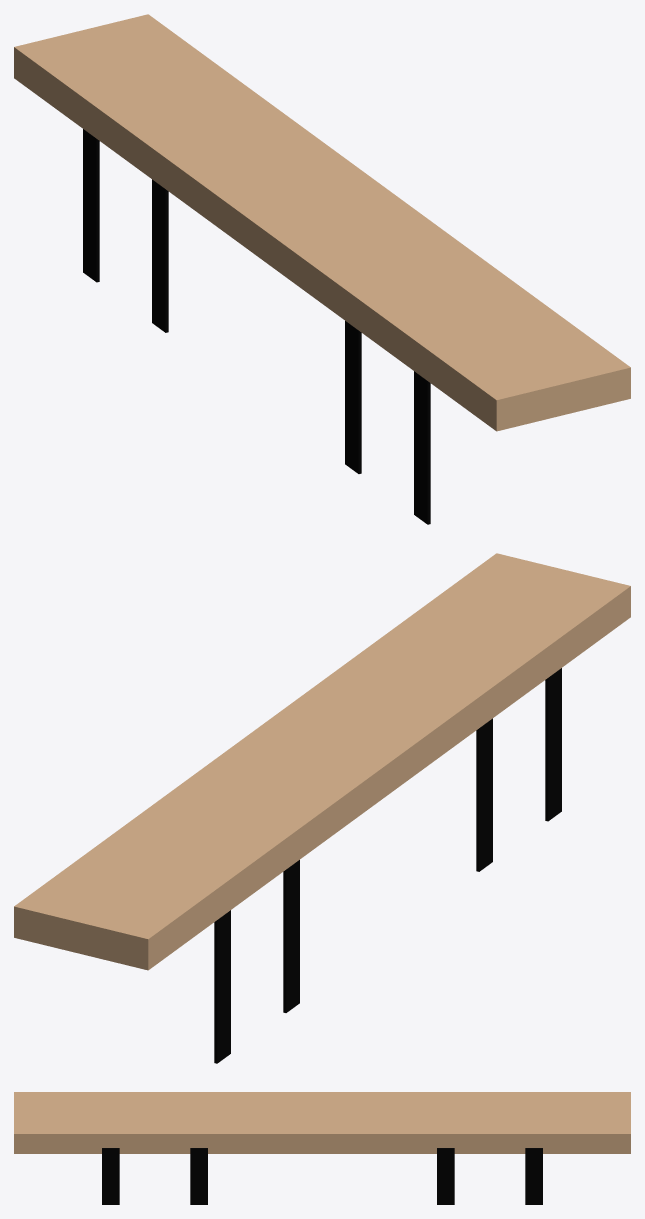
Rendered from 70s.Shelfs.fbx.
The picture shows the model from 3 angles, top to bottom: view 1: azimuth 30°, elevation 25°; view 2: azimuth 150°, elevation 25°; view 3: azimuth 270°, elevation 25°; orthographic projection. The views are drawn at different scales.
Parts seen in each view (by area): view 1: 70s.Shelf.140cm, 70s.Shelf.100cm; view 2: 70s.Shelf.100cm, 70s.Shelf.140cm; view 3: 70s.Shelf.100cm, 70s.Shelf.140cm.
Part boxes in pixels (x1,y1,x2,y2): 70s.Shelf.140cm: [14, 14, 630, 524]; 70s.Shelf.100cm: [83, 64, 561, 473]; 70s.Shelf.100cm: [83, 604, 561, 1012]; 70s.Shelf.140cm: [14, 553, 630, 1063]; 70s.Shelf.100cm: [102, 1092, 542, 1204]; 70s.Shelf.140cm: [14, 1092, 630, 1204].
Size of the model in its own units: 23 by 28 by 140.
